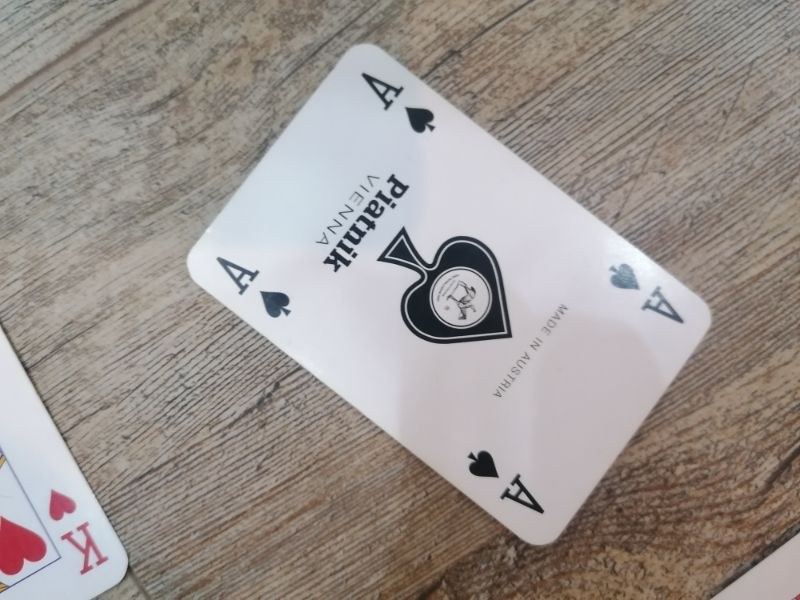As: (210, 251, 298, 321), (463, 446, 548, 518), (356, 68, 440, 139), (604, 259, 687, 329)
